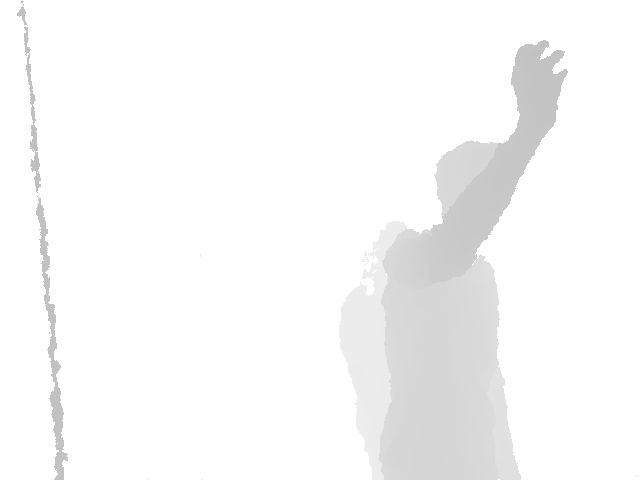hand: (510, 39, 569, 129)
head: (435, 139, 527, 235)
person: (376, 40, 569, 479)
